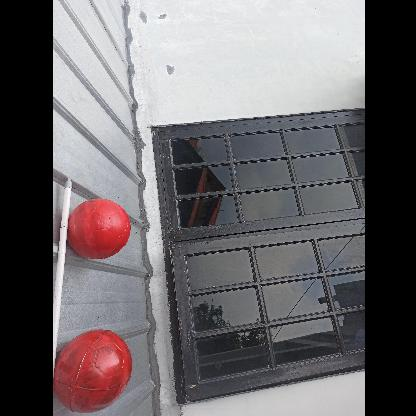red_ball: (53, 328, 137, 412), (67, 195, 130, 258)
